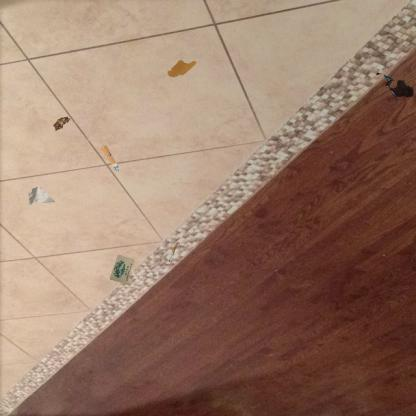dirty: (108, 253, 134, 285), (99, 144, 121, 172), (28, 186, 56, 206), (52, 114, 70, 134), (165, 240, 181, 262), (374, 71, 394, 84)
liquid: (384, 79, 416, 100), (166, 59, 196, 79)
